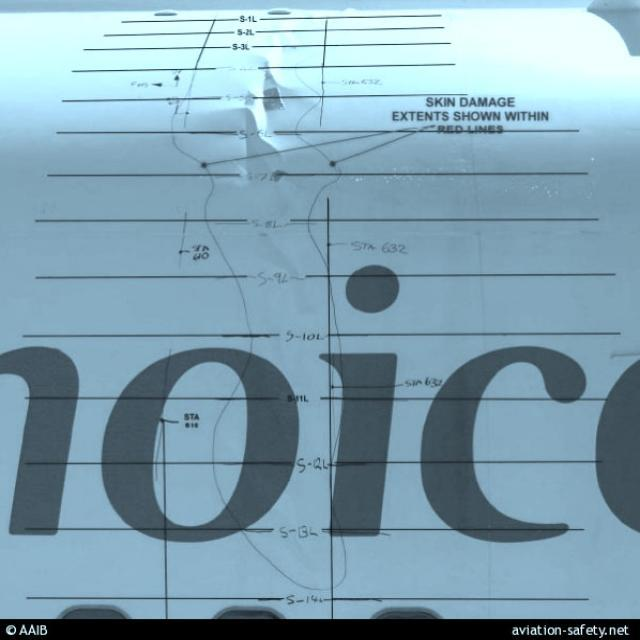dent: (240, 13, 317, 364)
